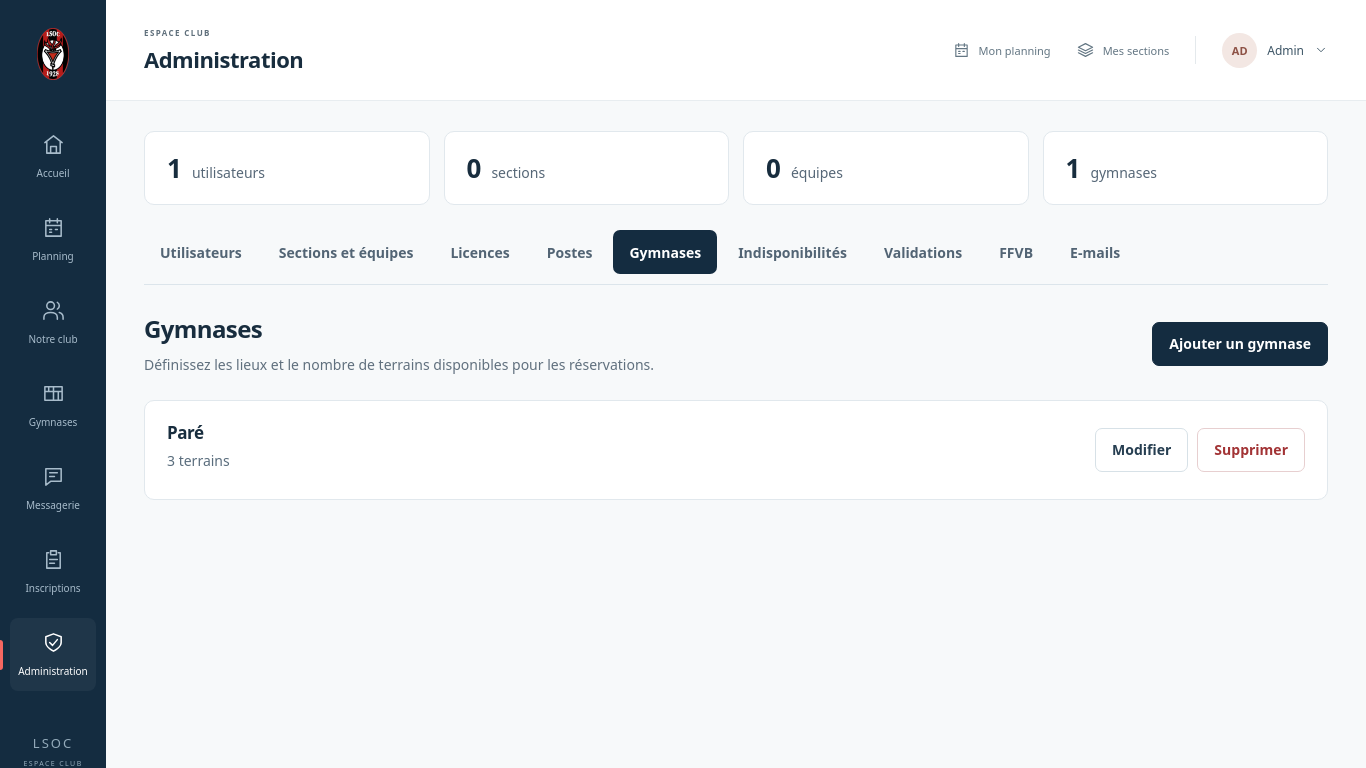
Scenario: affiche le refus de supprimer un gymnase utilisé et conserve le gymnase
Step 1. Click the button with aria-label "Supprimer Paré" → (1251, 450), box 1197,428 -> 1305,472
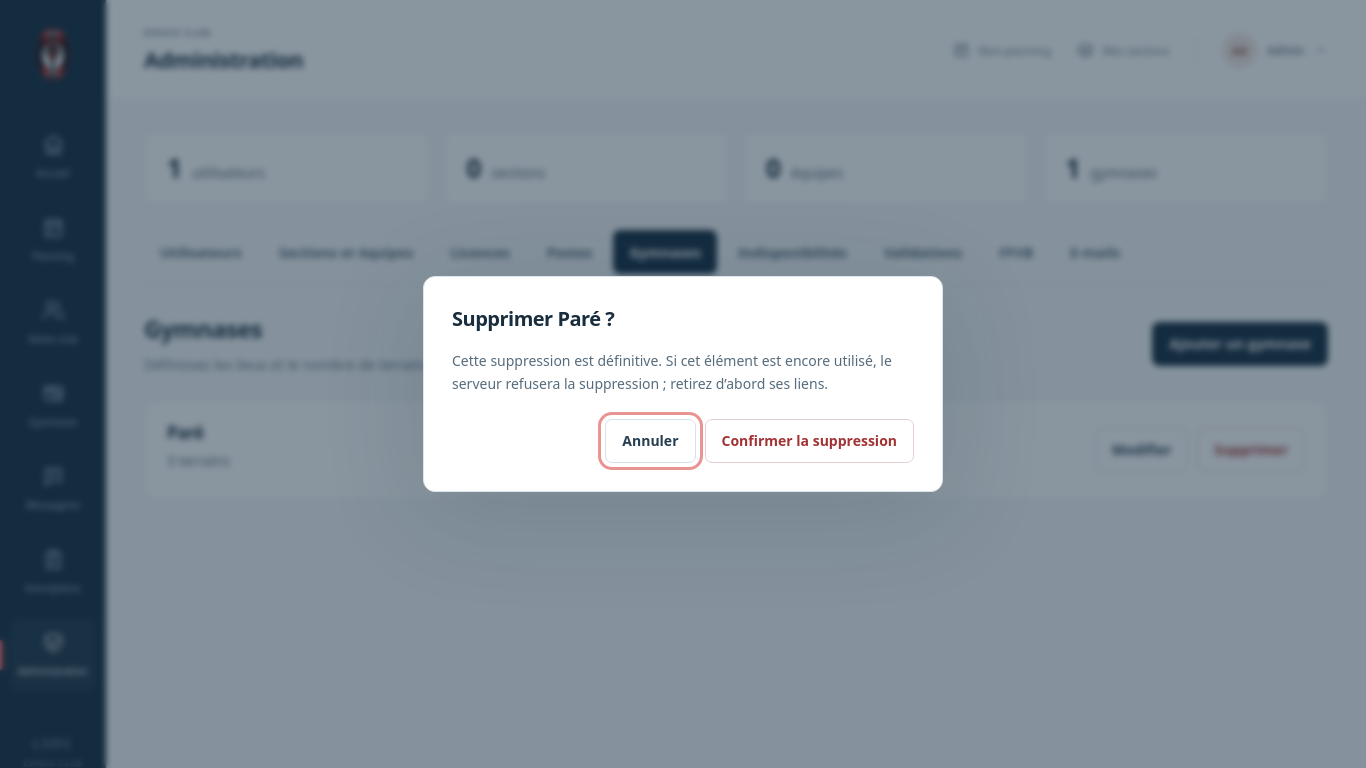
Step 2. Click the button "Confirmer la suppression" → (809, 441), box 704,419 -> 914,463
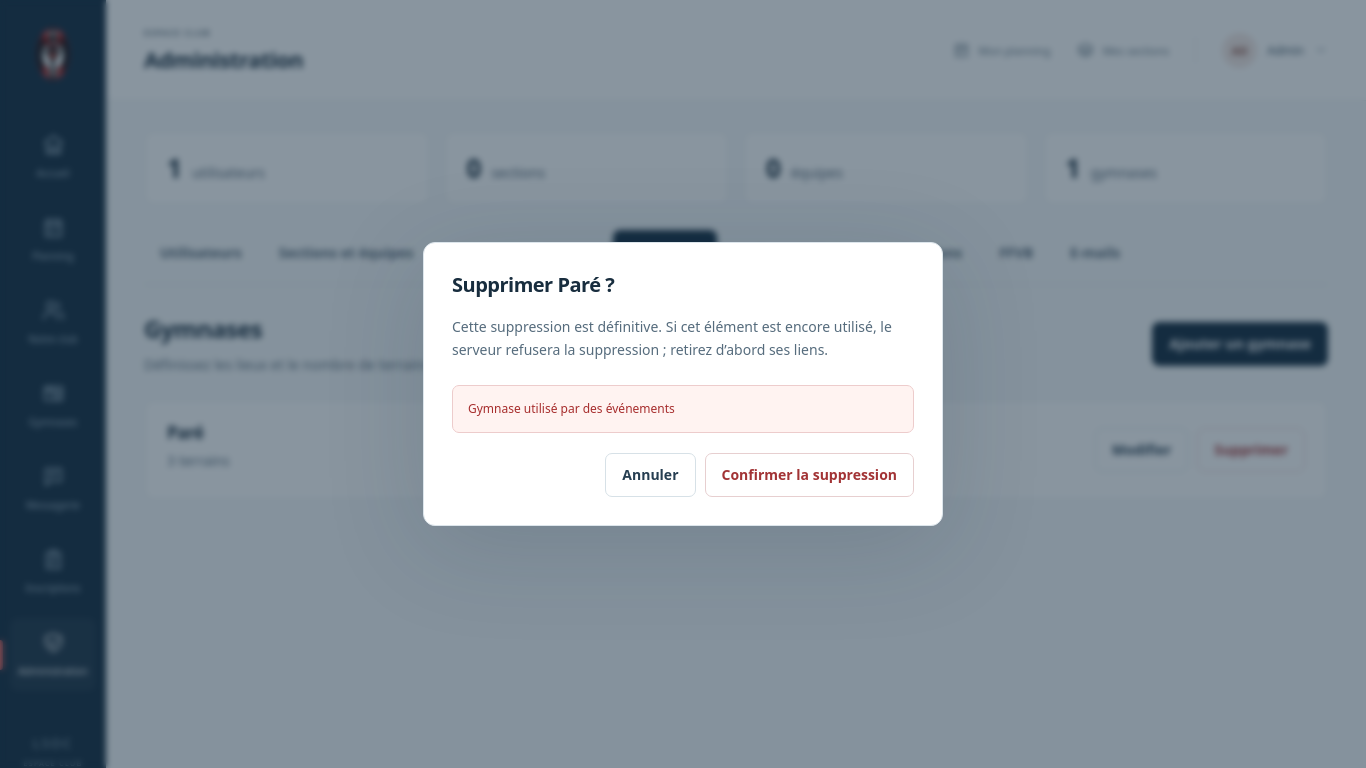
Expected: the heading "Paré" is shown, 167,421 -> 204,444
Expected: the message shows "Gymnase utilisé", 468,400 -> 675,417
